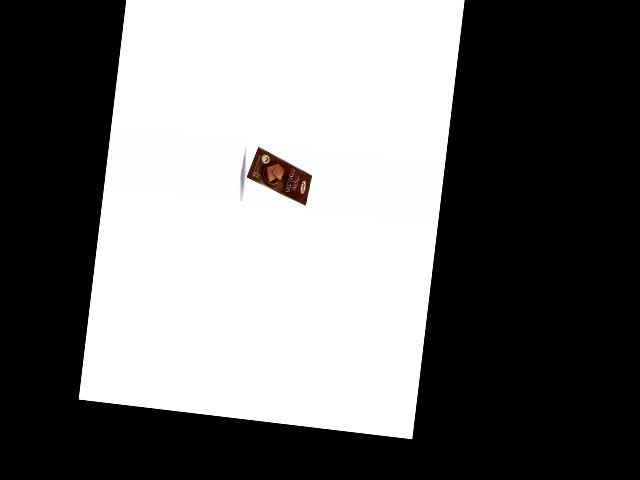chocolate: (241, 143, 315, 206)
